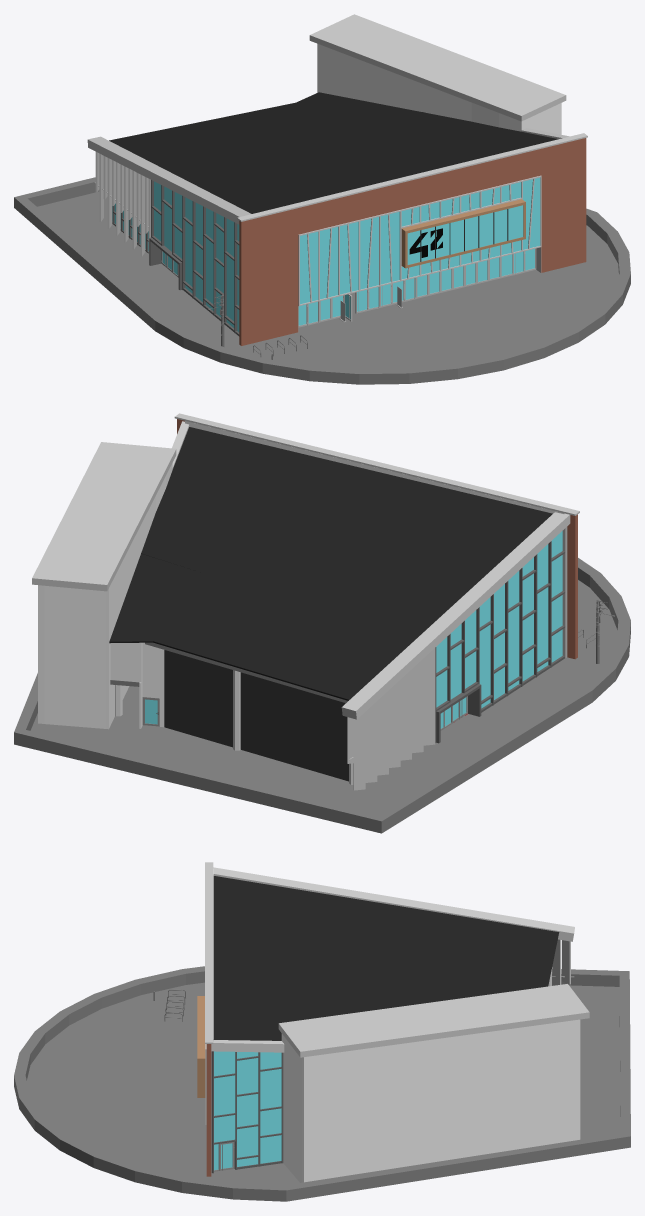
The model's file is 42WOB_v3.glb.
3 views of the same model, one above another, from view 1: azimuth 30°, elevation 25°; view 2: azimuth 150°, elevation 25°; view 3: azimuth 270°, elevation 25° (orthographic). The views are drawn at different scales.
Parts seen in each view (by area): view 1: Ground.001, Cube.797, Cube.560, Plane.081, Cube.783, Cube.782, Plane.098, Plane.082, Cube.796, Cube.663, Cube.665, Cube.561 (+7 smaller); view 2: Cube.797, Ground.001, Cube.782, Cube.783, Cube.316, Plane.098, Cube.796, Cube.313, Cube.665, Cube.663, Cube.561, Cube.666 (+8 smaller); view 3: Ground.001, Cube.797, Cube.782, Cube.783, Plane.101, Cube.796, Cube.561, Cube.700, Cube.798, Cube.563, Cube.560.
Part boxes in pixels (x1,y1,x2,y2): Ground.001: (14, 177, 630, 384); Cube.797: (109, 92, 558, 213); Cube.560: (239, 138, 586, 345); Plane.081: (300, 177, 540, 304); Cube.783: (309, 14, 566, 121); Cube.782: (317, 43, 561, 134); Plane.098: (185, 197, 239, 332); Plane.082: (407, 205, 523, 264); Cube.796: (87, 136, 251, 224); Cube.663: (151, 180, 237, 332); Cube.665: (99, 153, 150, 262); Cube.561: (237, 133, 587, 221); Cube.797: (109, 427, 552, 700); Ground.001: (14, 558, 630, 833); Cube.782: (38, 463, 172, 729); Cube.783: (32, 442, 176, 591); Cube.316: (240, 672, 348, 781); Plane.098: (479, 531, 562, 708); Cube.796: (341, 512, 570, 719); Cube.313: (164, 650, 232, 747); Cube.665: (353, 648, 435, 790); Cube.663: (435, 541, 551, 742); Cube.561: (174, 413, 579, 515); Cube.666: (347, 654, 428, 763); Ground.001: (14, 966, 630, 1201); Cube.797: (213, 876, 559, 1040); Cube.782: (281, 1019, 580, 1182); Cube.783: (278, 984, 589, 1057); Plane.101: (214, 1051, 281, 1166); Cube.796: (213, 867, 574, 941); Cube.561: (205, 862, 213, 1043); Cube.700: (211, 1051, 283, 1173); Cube.798: (211, 1040, 284, 1052); Cube.563: (197, 996, 205, 1097); Cube.560: (206, 1044, 211, 1176).
Bounding box in the file's own units: 37.78 × 10.74 × 42.82.
